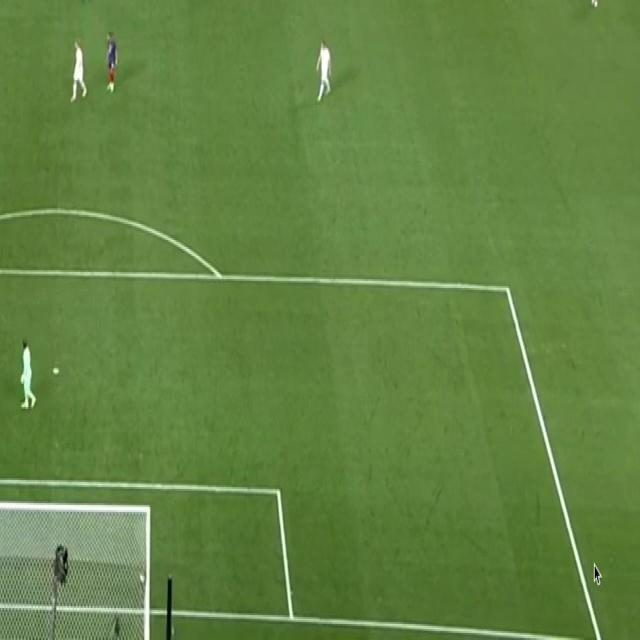player-white: (68, 38, 90, 106), (19, 336, 38, 412), (315, 38, 333, 104), (104, 30, 118, 96), (587, 0, 603, 10), (79, 0, 93, 4)
